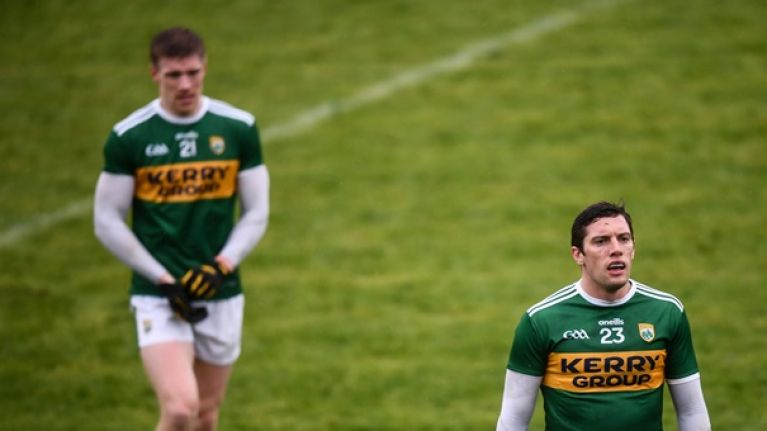player: (138, 29, 277, 420), (524, 192, 710, 416)
